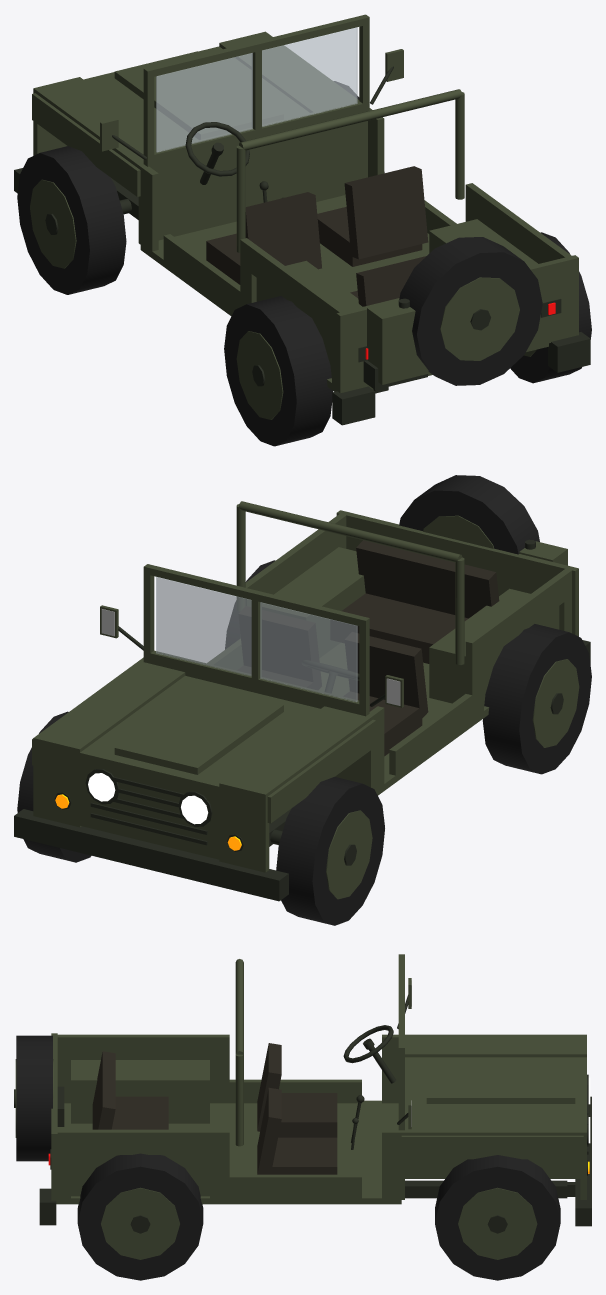
File: m151-jeep.glb
3 views of the same model, one above another, from view 1: azimuth 30°, elevation 25°; view 2: azimuth 150°, elevation 25°; view 3: azimuth 270°, elevation 25° (orthographic). The views are drawn at different scales.
Parts seen in each view (by area): view 1: Mesh_Firewall, Mesh_Tire_Spare, Mesh_Tire_RL, Mesh_Tire_FL, Mesh_WindshieldGlass_R, Mesh_WindshieldGlass_L, Mesh_HoodScoop, Mesh_SeatBack_R, Mesh_RearPanel, Mesh_Rim_Spare, Mesh_SeatBack_L, Mesh_FenderTop_L (+32 smaller); view 2: Mesh_Tire_RL, Mesh_Tire_FL, Mesh_HoodScoop, Mesh_WindshieldGlass_L, Mesh_BumperFront, Mesh_WindshieldGlass_R, Mesh_GrillePlate, Mesh_RearSeatBack, Mesh_Tire_Spare, Mesh_HoodMain, Mesh_RearPanel, Mesh_FenderTop_L (+37 smaller); view 3: Mesh_Tire_RR, Mesh_Floor_Rear, Mesh_Tire_FR, Mesh_WheelWell_L, Mesh_HoodScoop, Mesh_HoodMain, Mesh_Tire_Spare, Mesh_FenderFlare_R, Mesh_FenderTop_L, Mesh_Rim_RR, Mesh_Rim_FR, Mesh_FenderTop_R (+27 smaller).
Part boxes in pixels (x1=…): Mesh_Firewall: x1=138, y1=108, x2=372, y2=244; Mesh_Tire_Spare: x1=399, y1=237, x2=542, y2=385; Mesh_Tire_RL: x1=224, y1=296, x2=332, y2=446; Mesh_Tire_FL: x1=17, y1=146, x2=126, y2=294; Mesh_WindshieldGlass_R: x1=262, y1=27, x2=357, y2=126; Mesh_WindshieldGlass_L: x1=156, y1=53, x2=252, y2=152; Mesh_HoodScoop: x1=114, y1=51, x2=283, y2=139; Mesh_SeatBack_R: x1=344, y1=166, x2=428, y2=259; Mesh_RearPanel: x1=336, y1=255, x2=578, y2=393; Mesh_Rim_Spare: x1=440, y1=277, x2=519, y2=360; Mesh_SeatBack_L: x1=245, y1=192, x2=321, y2=269; Mesh_FenderTop_L: x1=35, y1=78, x2=173, y2=169; Mesh_Tire_RL: x1=482, y1=624, x2=591, y2=774; Mesh_Tire_FL: x1=276, y1=777, x2=384, y2=925; Mesh_HoodScoop: x1=114, y1=685, x2=283, y2=774; Mesh_WindshieldGlass_L: x1=260, y1=602, x2=357, y2=701; Mesh_BumperFront: x1=14, y1=809, x2=288, y2=901; Mesh_WindshieldGlass_R: x1=156, y1=577, x2=251, y2=676; Mesh_GrillePlate: x1=80, y1=750, x2=219, y2=859; Mesh_RearSeatBack: x1=356, y1=540, x2=499, y2=618; Mesh_Tire_Spare: x1=399, y1=475, x2=539, y2=554; Mesh_HoodMain: x1=82, y1=675, x2=320, y2=784; Mesh_RearPanel: x1=336, y1=510, x2=578, y2=636; Mesh_FenderTop_L: x1=221, y1=706, x2=371, y2=796; Mesh_Tire_RR: x1=77, y1=1153, x2=203, y2=1280; Mesh_Floor_Rear: x1=56, y1=1100, x2=401, y2=1204; Mesh_Tire_FR: x1=435, y1=1155, x2=560, y2=1280; Mesh_WheelWell_L: x1=71, y1=1060, x2=209, y2=1123; Mesh_HoodScoop: x1=426, y1=1063, x2=575, y2=1103; Mesh_HoodMain: x1=405, y1=1057, x2=583, y2=1178; Mesh_Tire_Spare: x1=16, y1=1035, x2=52, y2=1161; Mesh_FenderFlare_R: x1=401, y1=1135, x2=583, y2=1159; Mesh_FenderTop_L: x1=405, y1=1034, x2=583, y2=1057; Mesh_Rim_RR: x1=101, y1=1187, x2=179, y2=1259; Mesh_Rim_FR: x1=458, y1=1187, x2=537, y2=1259; Mesh_FenderTop_R: x1=401, y1=1113, x2=583, y2=1135.
Bounding box in the file's own units: 1.82 × 1.45 × 3.5.
